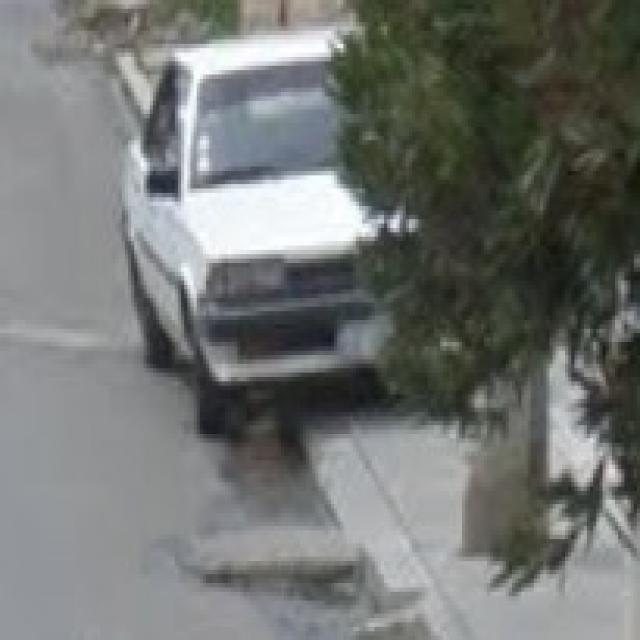cars: (124, 30, 423, 430)
